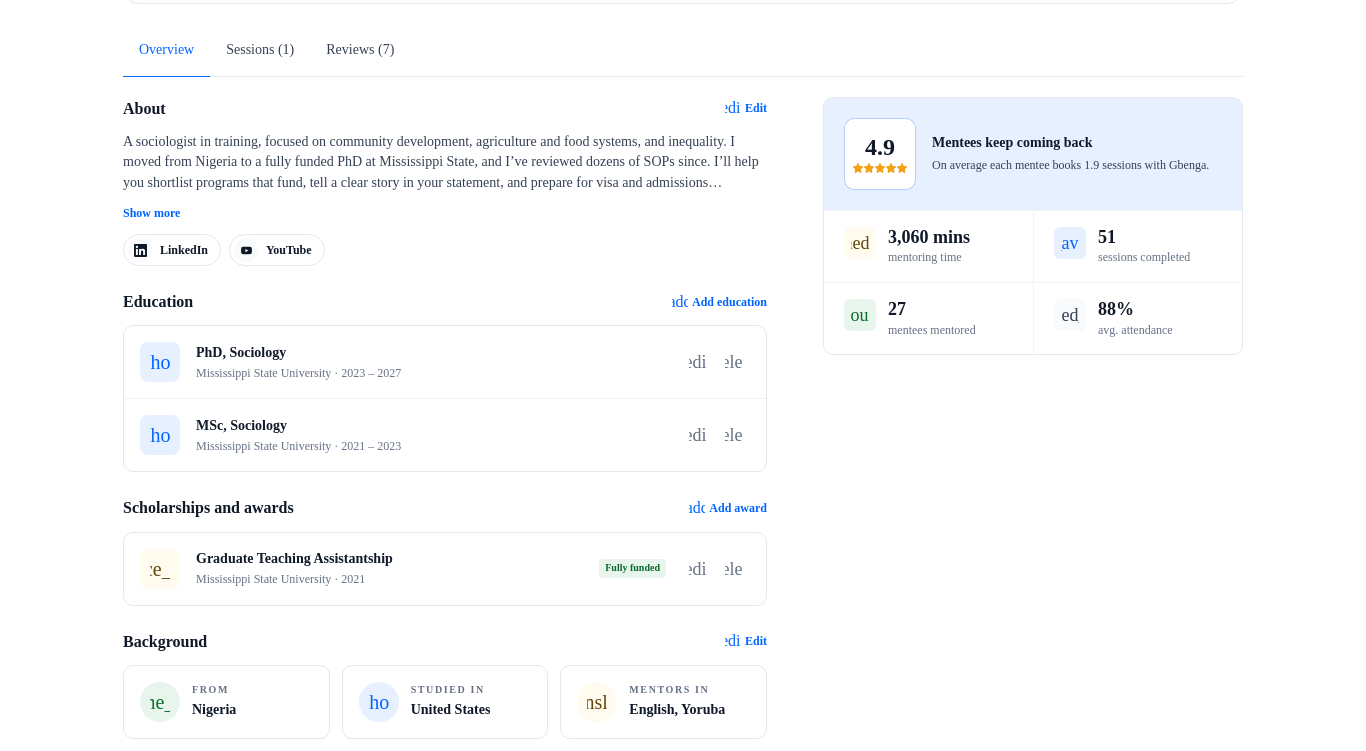
Scenario: MentorProfileScreen — scholarships and awards › the owner adds one: "Add award" opens the form, and the page says it was added
(page scrolled)
Click the button "add Add award". click: (728, 508)
box: [689,500,767,516]
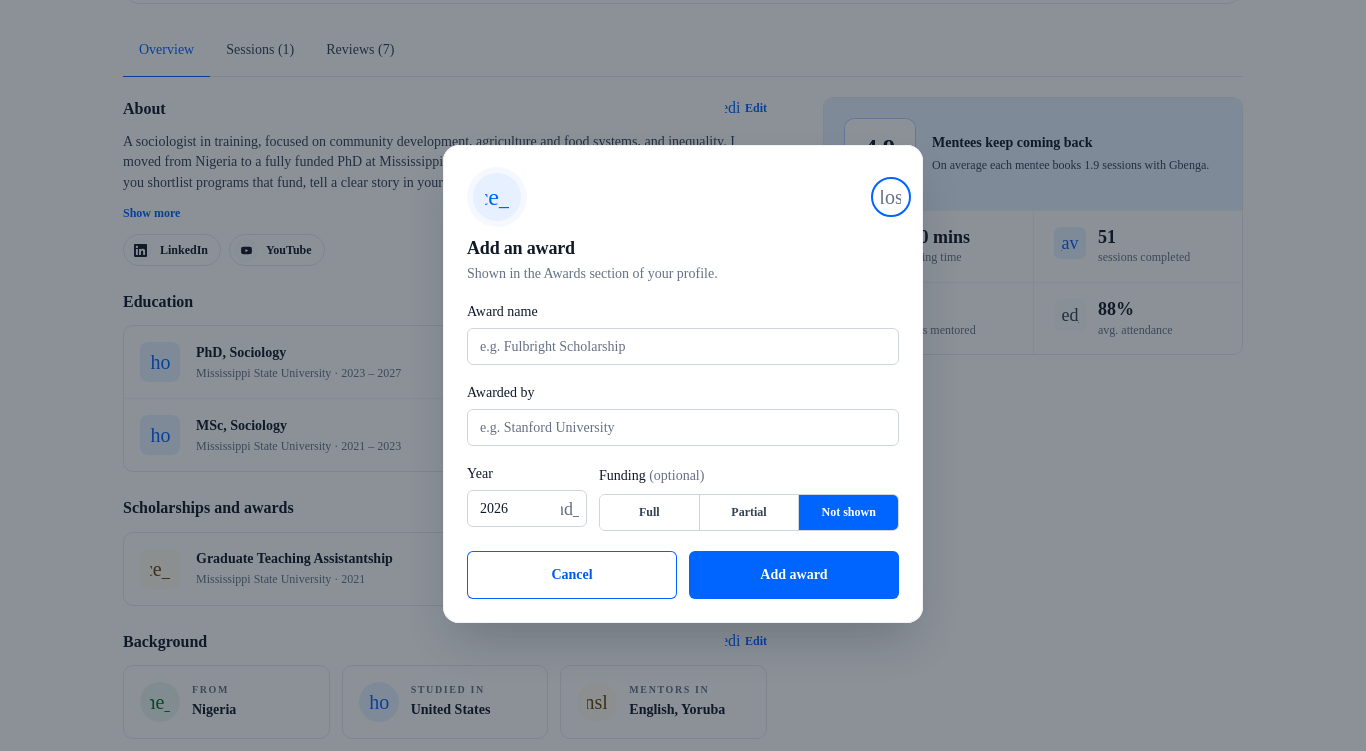
Type "Fulbright" into the field labelled "Award name". click: (683, 347)
box: [467,328,899,365]
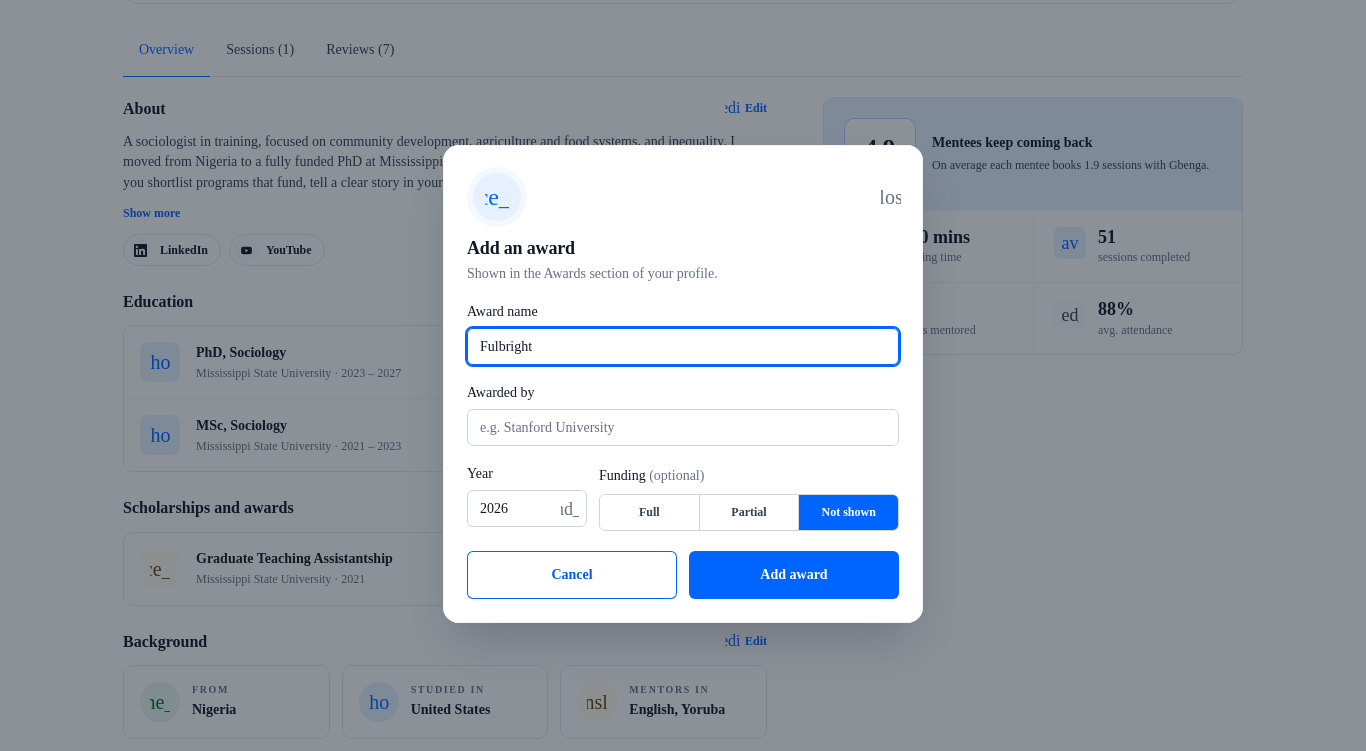
Type "Stanford" into the field labelled "Awarded by". click: (683, 428)
box: [467,409,899,446]
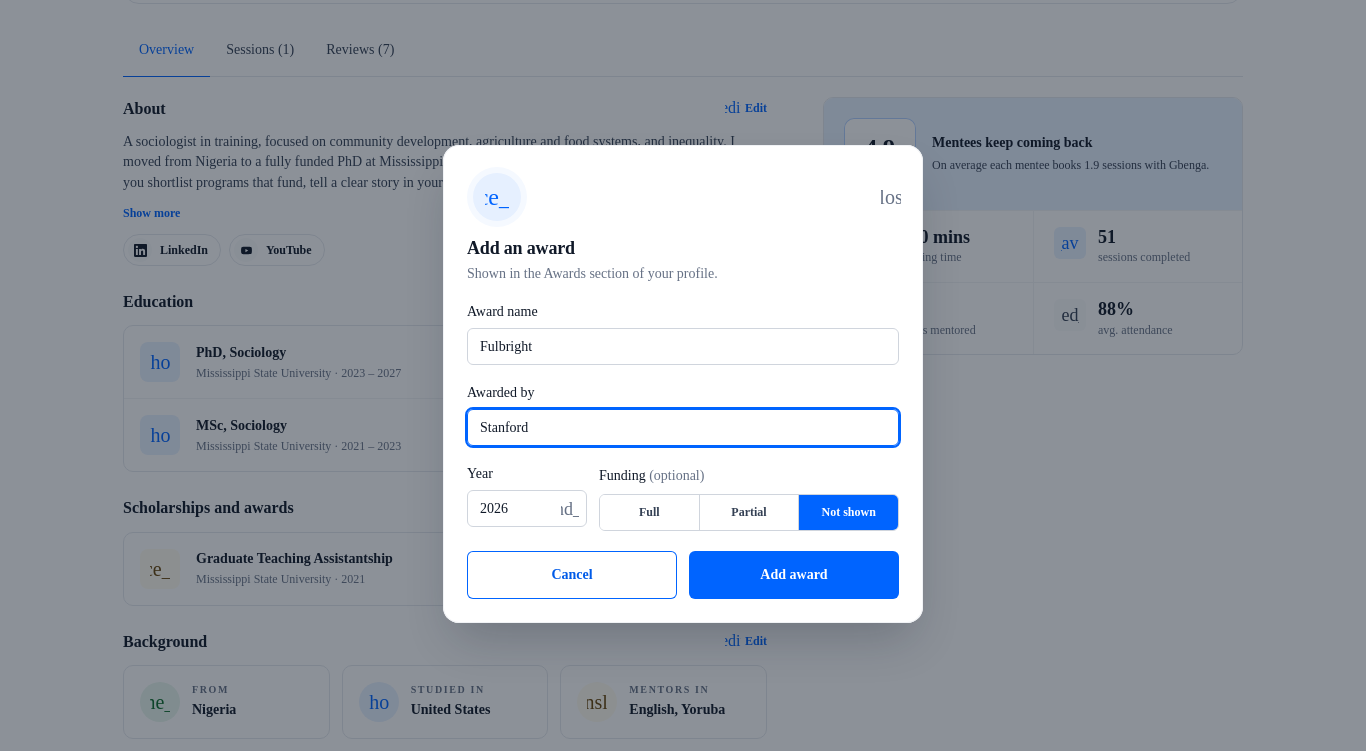
Click the button "Add award". click: (794, 576)
box: [689,552,899,600]
(page scrolled)
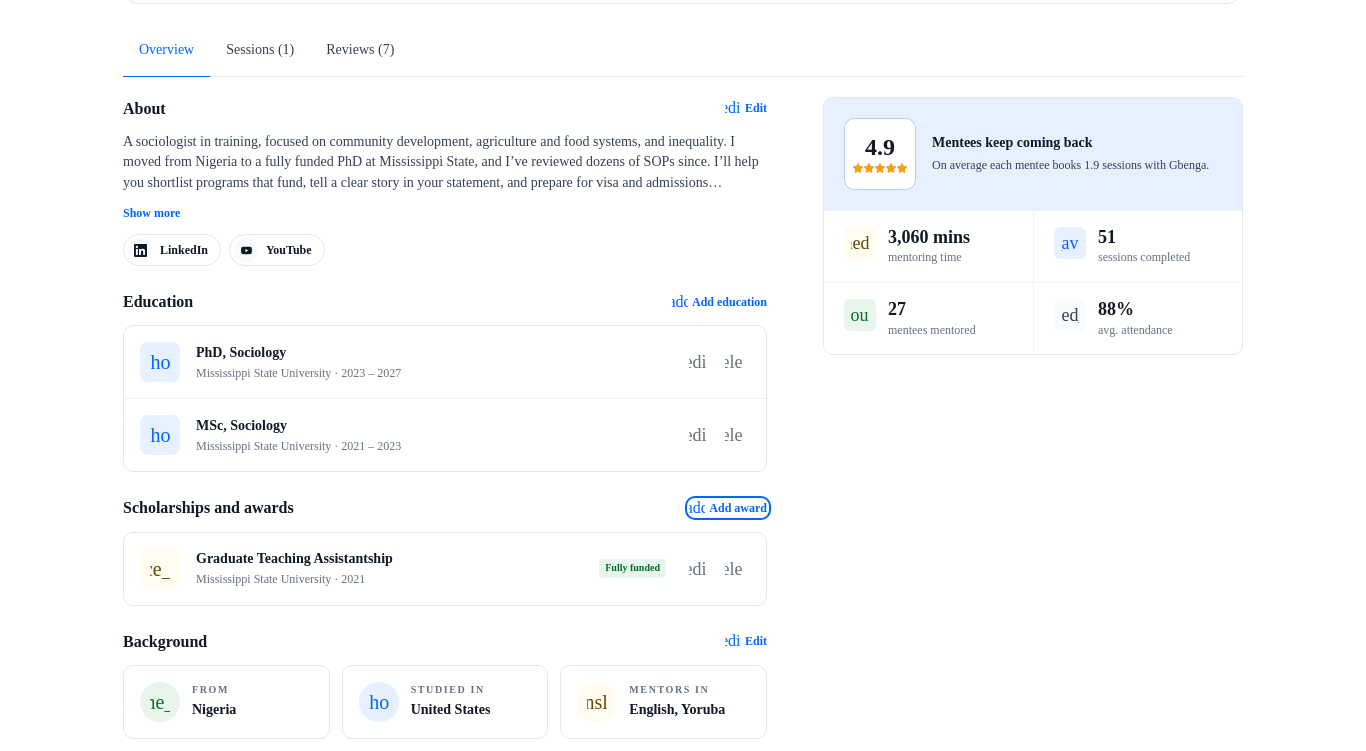
Check: the dialog is gone
